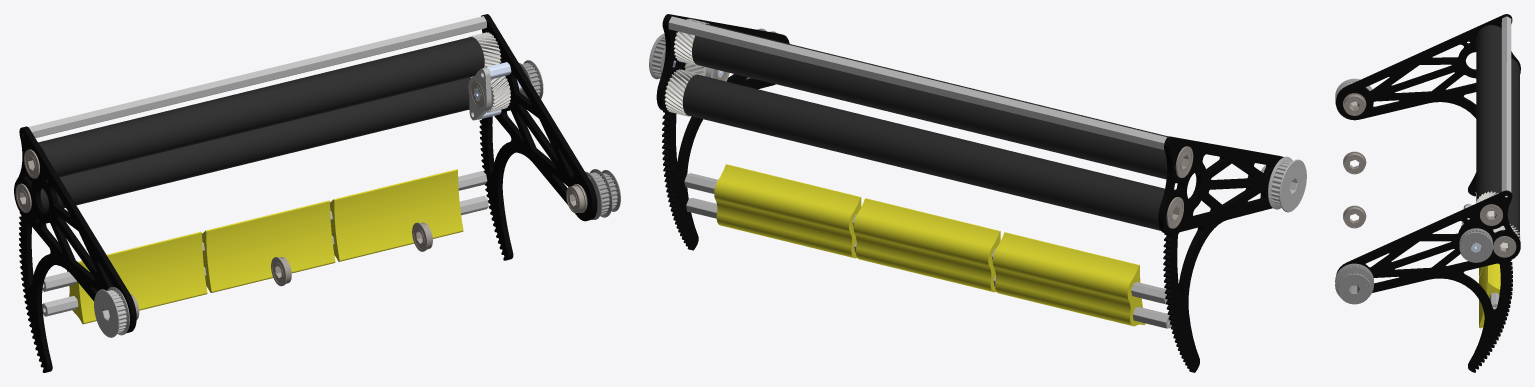
The picture shows the model from 3 angles, left to right: view 1: azimuth 30°, elevation 25°; view 2: azimuth 150°, elevation 25°; view 3: azimuth 270°, elevation 25°; orthographic projection. The views are drawn at different scales.
Visible parts, largest first — view 1: Sólido2 (×12), Sólido1 (×7); view 2: Sólido2 (×11), Sólido1 (×3); view 3: Sólido2 (×9), Sólido1 (×6).
Boxes of the visible parts, box(x1,y1,x2,y2) form: Sólido2 (×12): box(14, 14, 620, 372); Sólido1 (×7): box(67, 67, 586, 324); Sólido2 (×11): box(649, 14, 1306, 372); Sólido1 (×3): box(714, 164, 1145, 326); Sólido2 (×9): box(1335, 14, 1520, 372); Sólido1 (×6): box(1343, 93, 1516, 328).
Bounding box in the file's own units: 0.6108 × 0.2664 × 0.2483.
